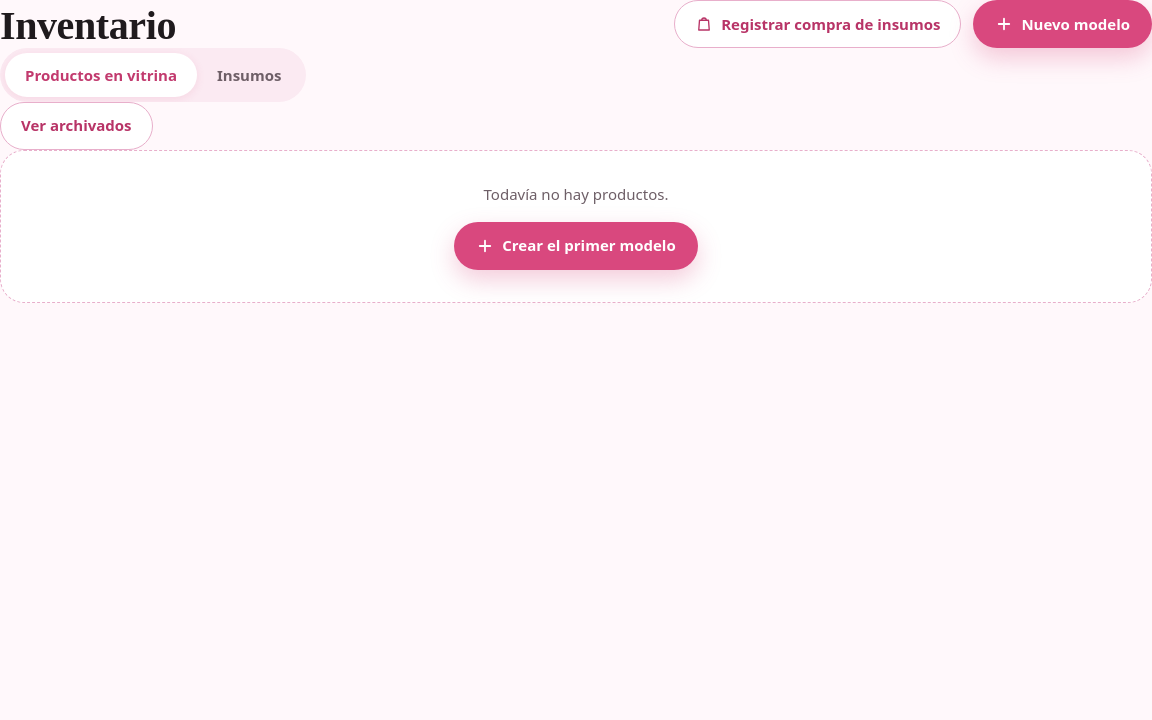
Test: lista vacía invita a agregar el primer modelo
The image size is (1152, 720).
Expected: the text "Todavía no hay productos." is shown, x1=484 y1=183 x2=668 y2=206
Step 1. Click the button "Crear el primer modelo" → (576, 246), box x1=454 y1=222 x2=698 y2=270
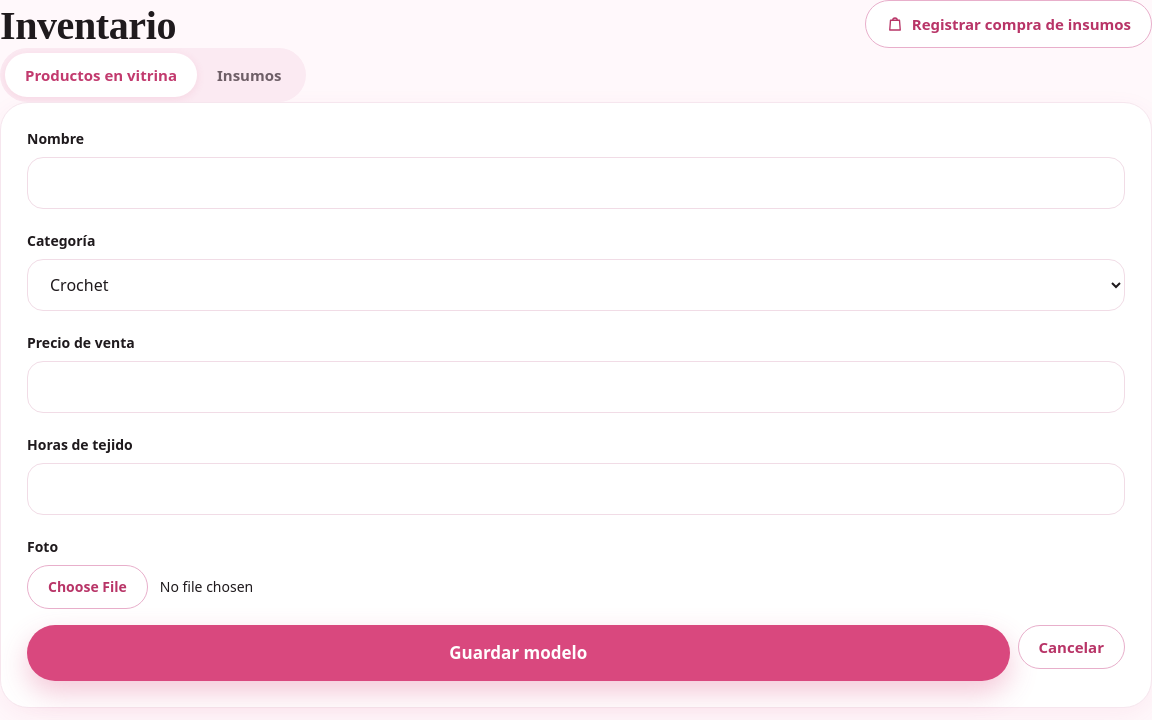
Now the field labelled "Nombre" is shown, box x1=27 y1=157 x2=1125 y2=209
